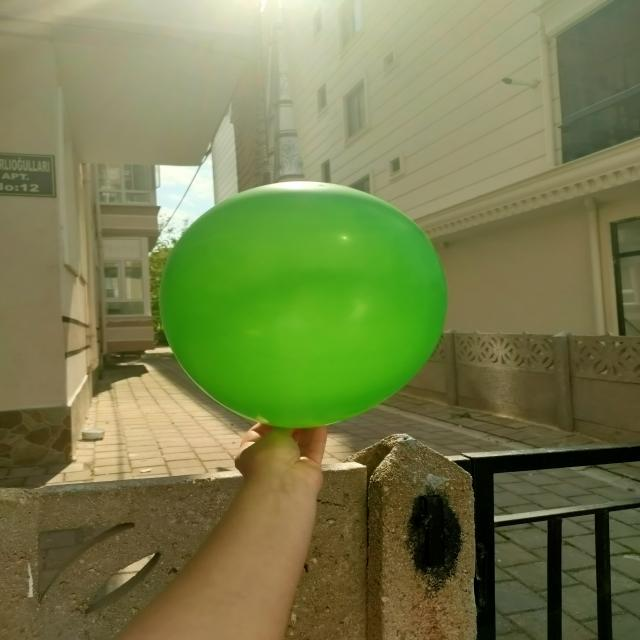green: (158, 181, 449, 427)
